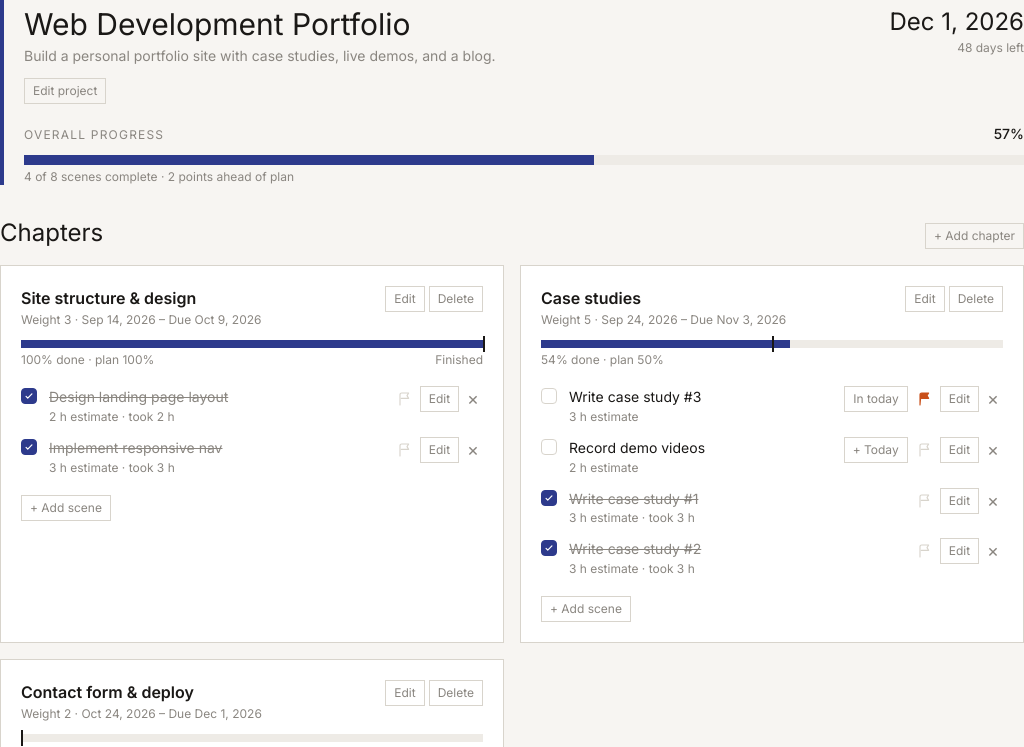
Scenario: ProjectDetail › a Writing project says chapters and scenes
The width and height of the screenshot is (1024, 747).
Expected: the heading "Chapters" is shown, x1=0 y1=217 x2=103 y2=249
Click the button "+ Add chapter": (974, 236) x1=925 y1=223 x2=1023 y2=249
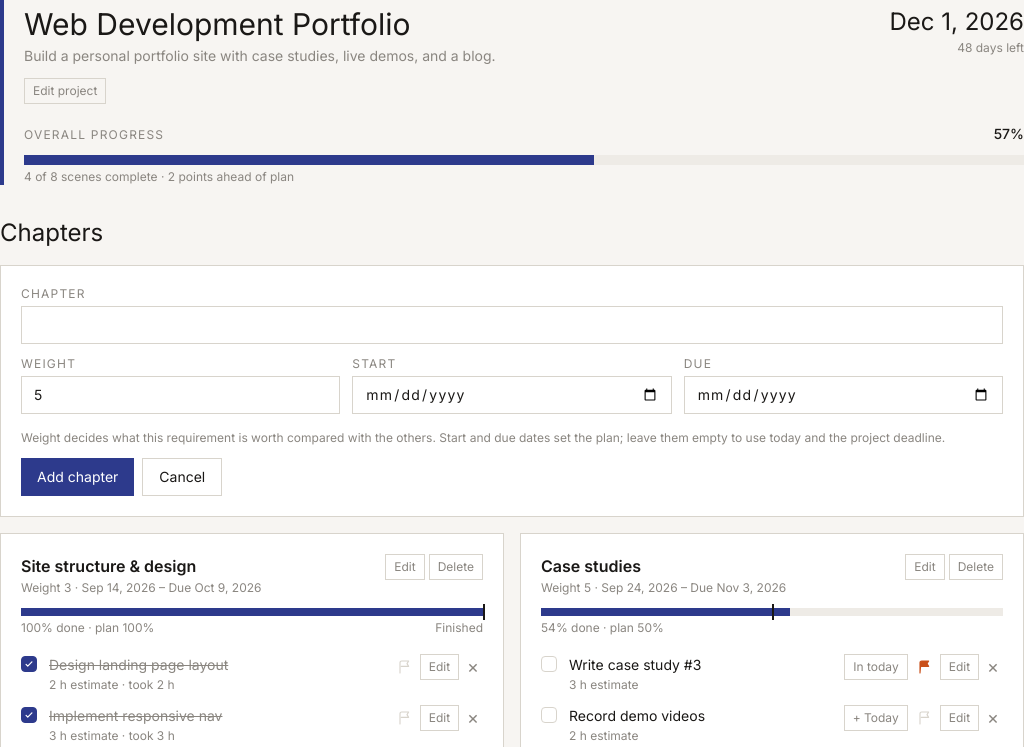
In the field named "Chapter title": (512, 325) x1=21 y1=306 x2=1003 y2=344, type "Opening"
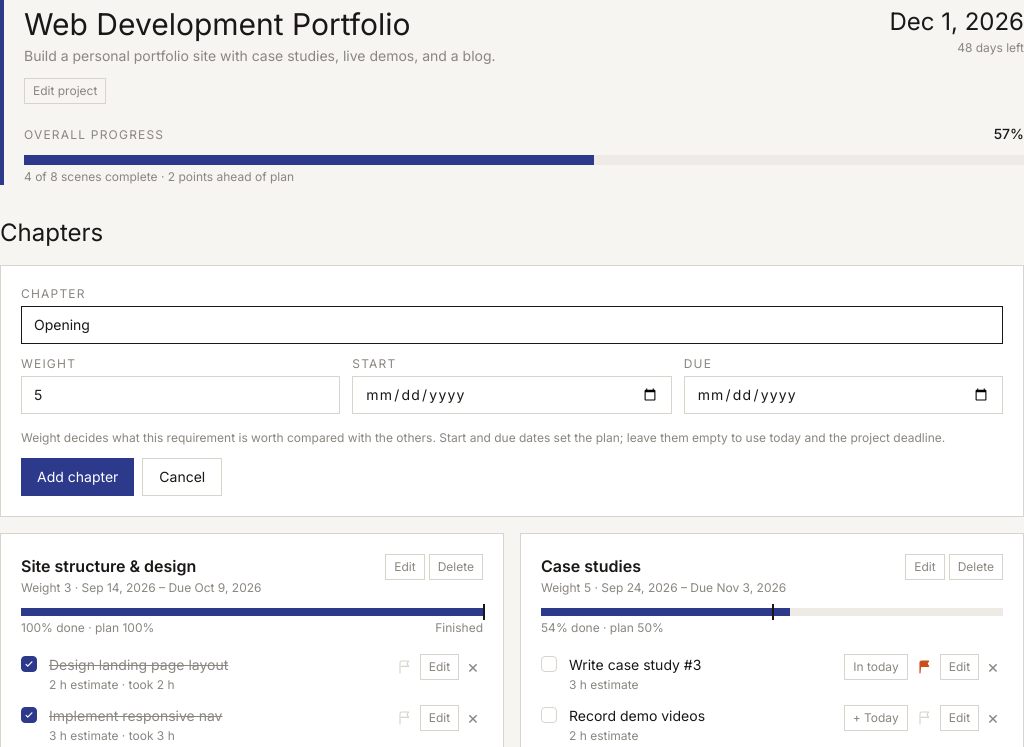
Click the button "Add chapter": (78, 477) x1=21 y1=458 x2=134 y2=496
(page scrolled)
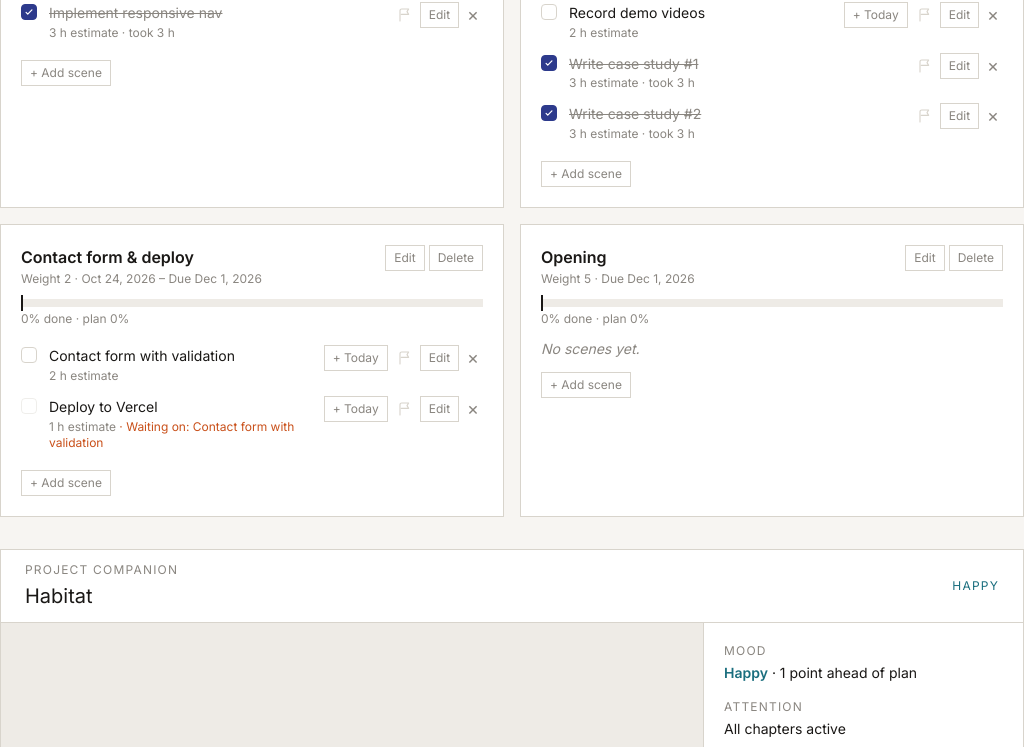
Result: the element "Opening" shows "No scenes yet" at x1=520 y1=224 x2=1023 y2=516
